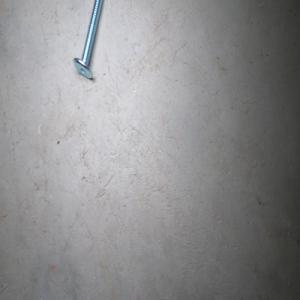Bolt: (72, 0, 103, 79)
